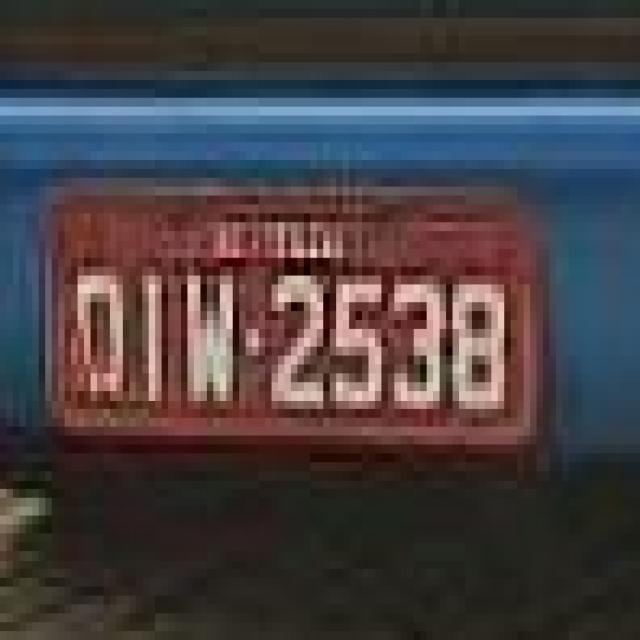3: (390, 265, 448, 426)
5: (334, 271, 386, 421)
8: (449, 268, 512, 428)
I: (134, 266, 172, 412)
Q: (80, 256, 126, 414)
W: (186, 262, 239, 408)
